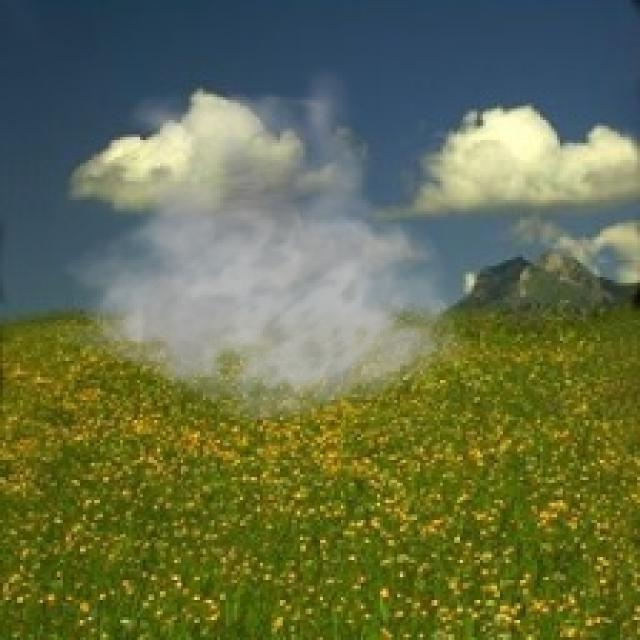smoke: (54, 60, 469, 423)
